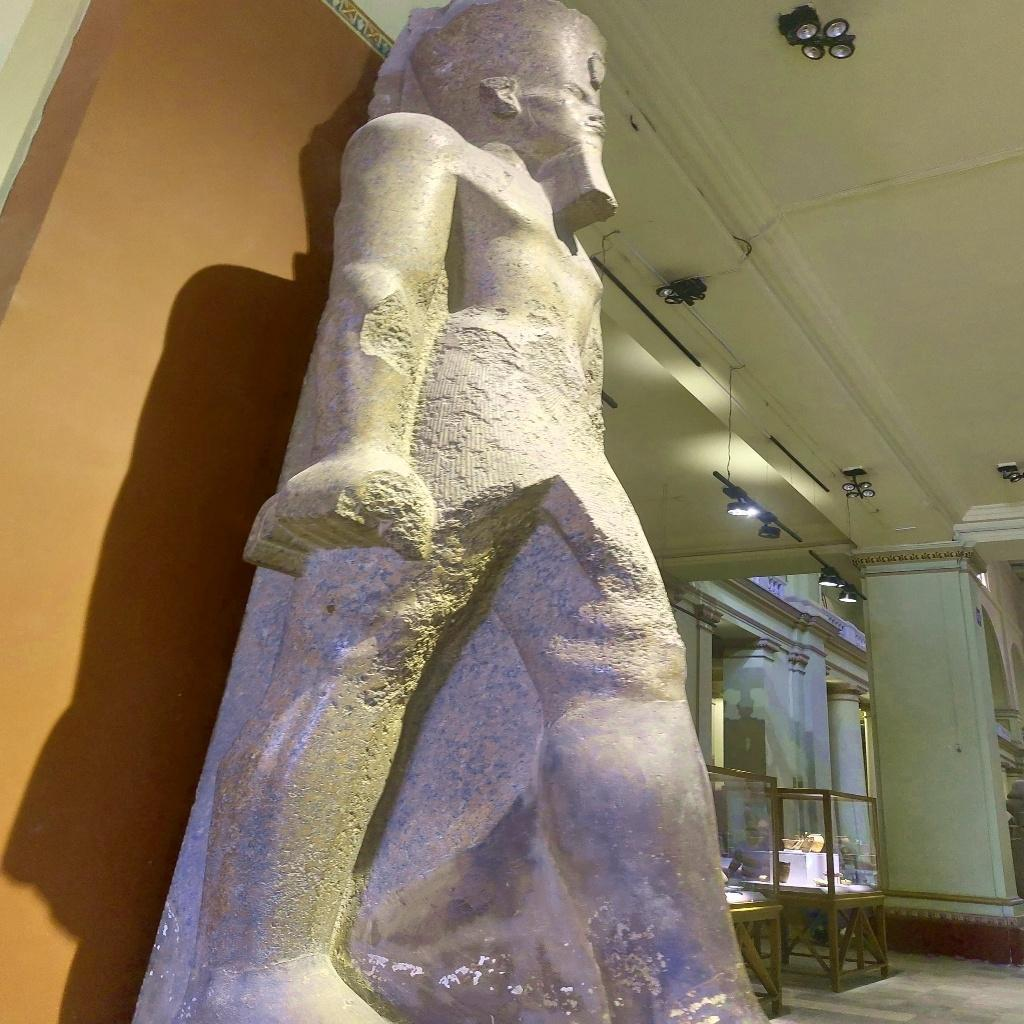Senwosret III: (132, 2, 776, 1022)
